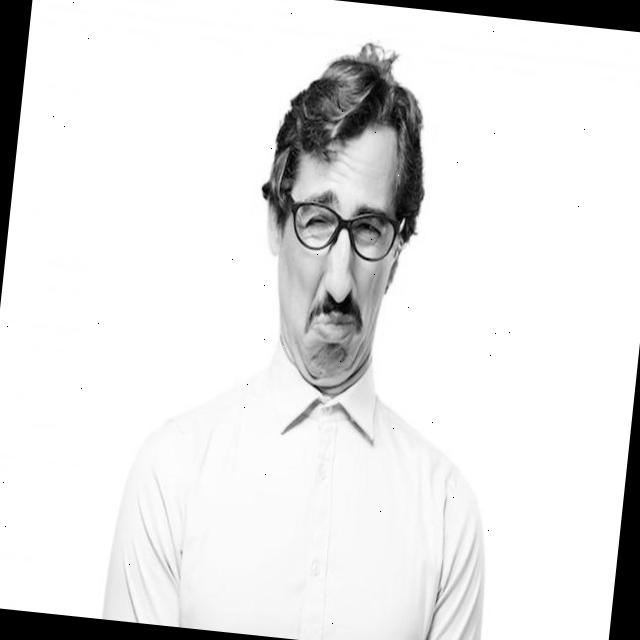Disgust: (264, 111, 411, 396)
